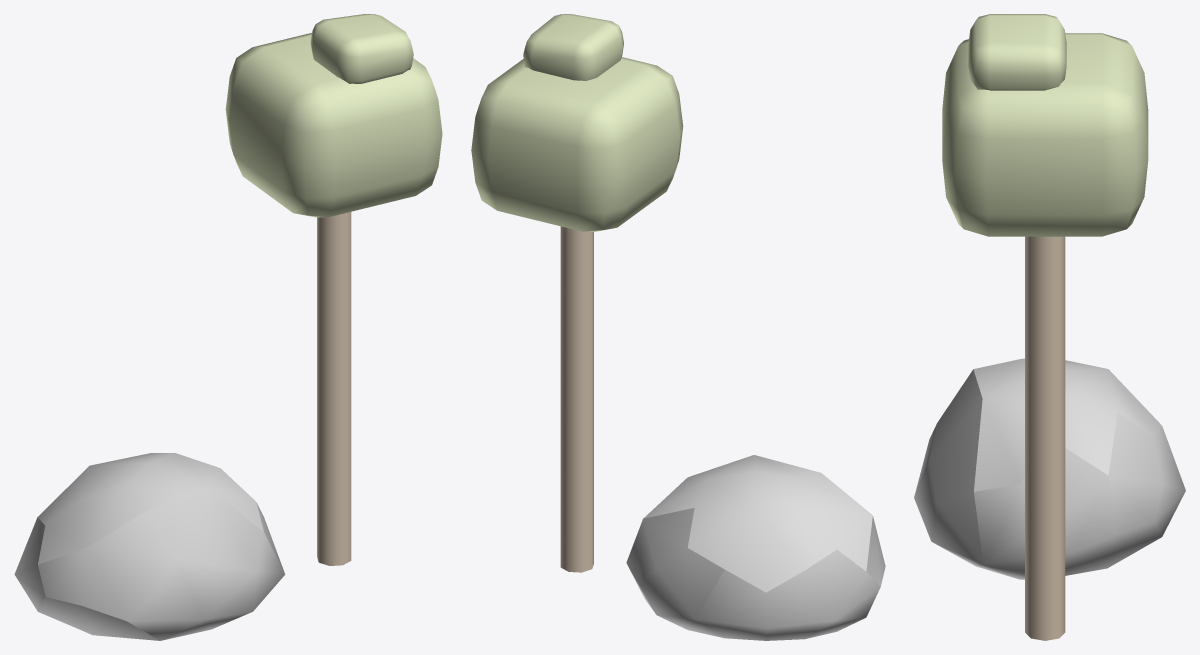
File: Tree and Rock.fbx
3 views of the same model, side by side, from view 1: azimuth 30°, elevation 25°; view 2: azimuth 150°, elevation 25°; view 3: azimuth 270°, elevation 25° (orthographic). The views are drawn at different scales.
Visible parts, largest first — view 1: Rock, pCube1, pCube2, polySurface4, polySurface8, polySurface10, polySurface1, polySurface6, polySurface9; view 2: Rock, pCube1, pCube2, polySurface10, polySurface1, polySurface6, polySurface8, polySurface4, polySurface9; view 3: Rock, pCube1, pCube2, polySurface10, polySurface1, polySurface4, polySurface6, polySurface8, polySurface9.
Part boxes in pixels (x1,y1,x2,y2): Rock: (14,453,285,640); pCube1: (225,33,442,217); pCube2: (310,14,413,83); polySurface4: (317,430,351,502); polySurface8: (317,303,351,375); polySurface10: (317,240,351,311); polySurface1: (317,494,351,565); polySurface6: (317,367,351,438); polySurface9: (317,212,351,248); Rock: (626,455,885,640); pCube1: (471,57,683,231); pCube2: (523,14,623,80); polySurface10: (560,254,593,324); polySurface1: (560,502,593,572); polySurface6: (560,378,593,448); polySurface8: (560,316,593,386); polySurface4: (560,440,593,510); polySurface9: (560,226,593,262); Rock: (914,358,1185,579); pCube1: (942,33,1148,236); pCube2: (968,14,1066,90); polySurface10: (1025,271,1065,351); polySurface1: (1025,560,1065,640); polySurface4: (1025,488,1065,568); polySurface6: (1025,416,1065,496); polySurface8: (1025,344,1065,424); polySurface9: (1025,236,1065,279).
Bounding box in the file's own units: 8.5 × 11.59 × 4.66.
